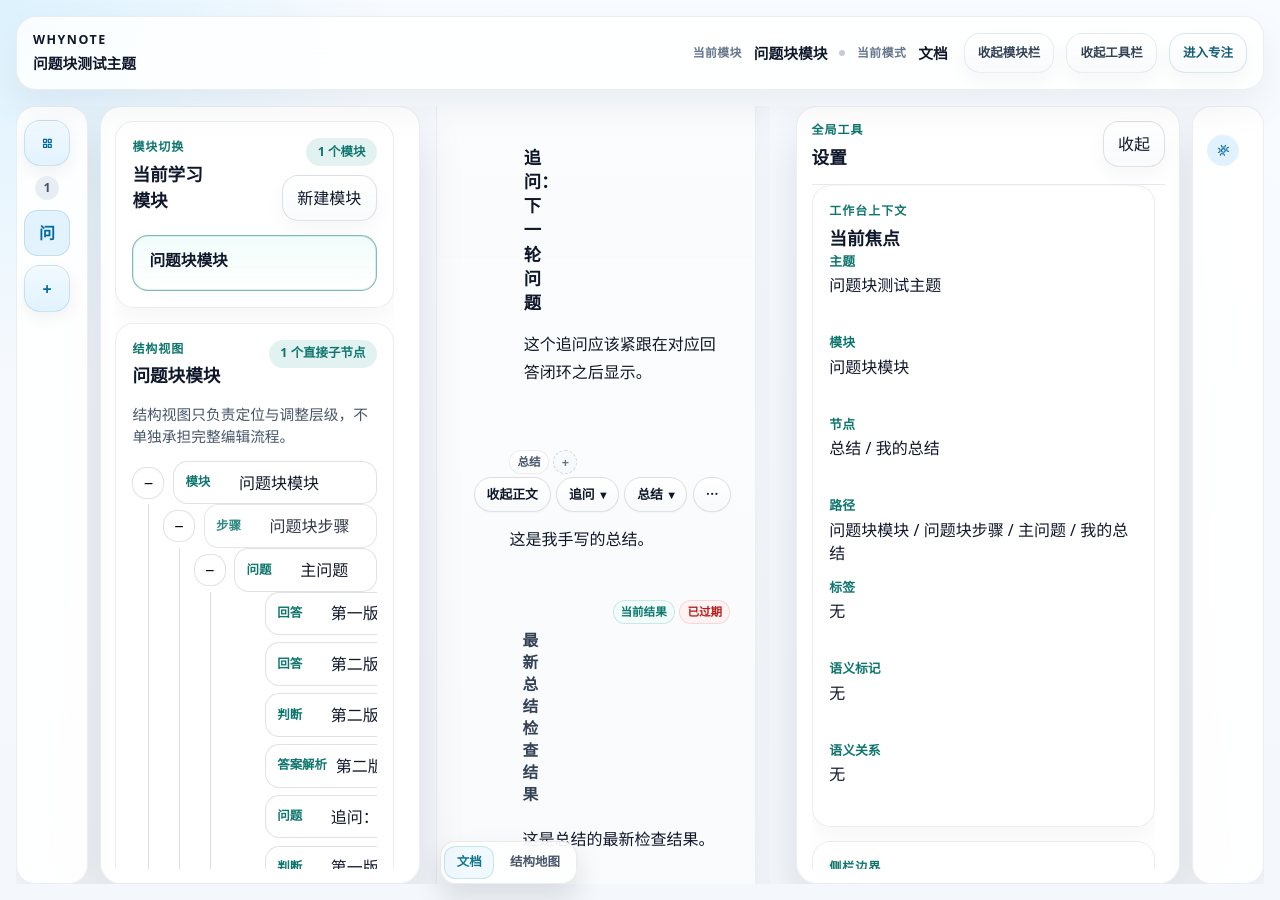
keeps low-frequency actions in ⋯ on summary-manual
(page scrolled)
Click the button "⋯": [712, 495] box [693, 478, 731, 512]
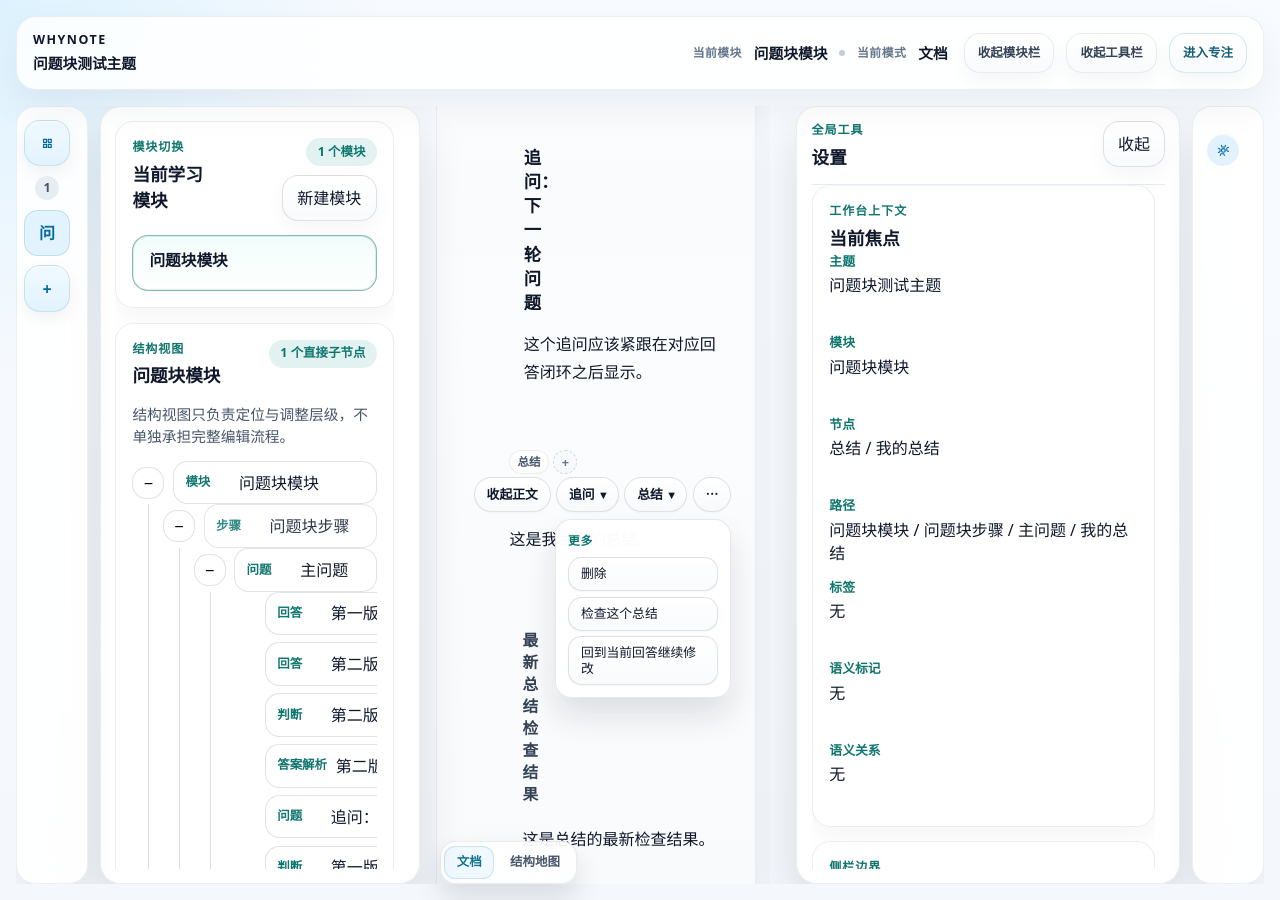
Result: the button "删除" is shown at [568, 557, 718, 591]
Result: the button "检查这个总结" is shown at [568, 597, 718, 631]
Result: the button "回到当前回答继续修改" is shown at [568, 636, 718, 685]
